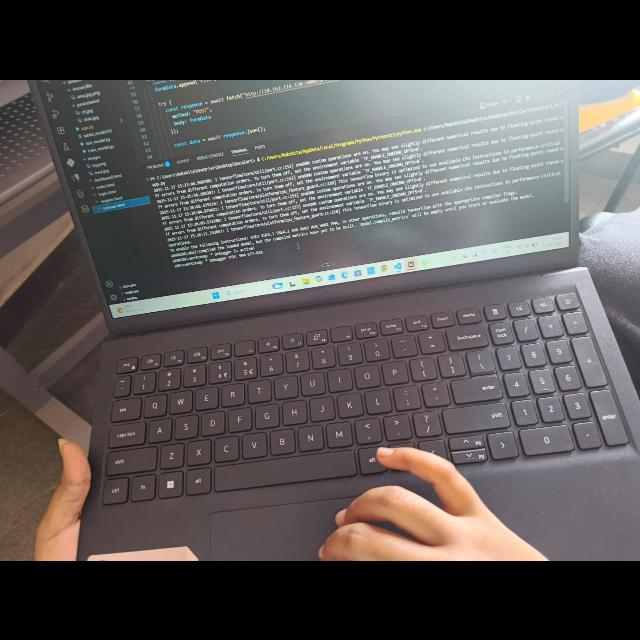laptop: (25, 84, 640, 560)
